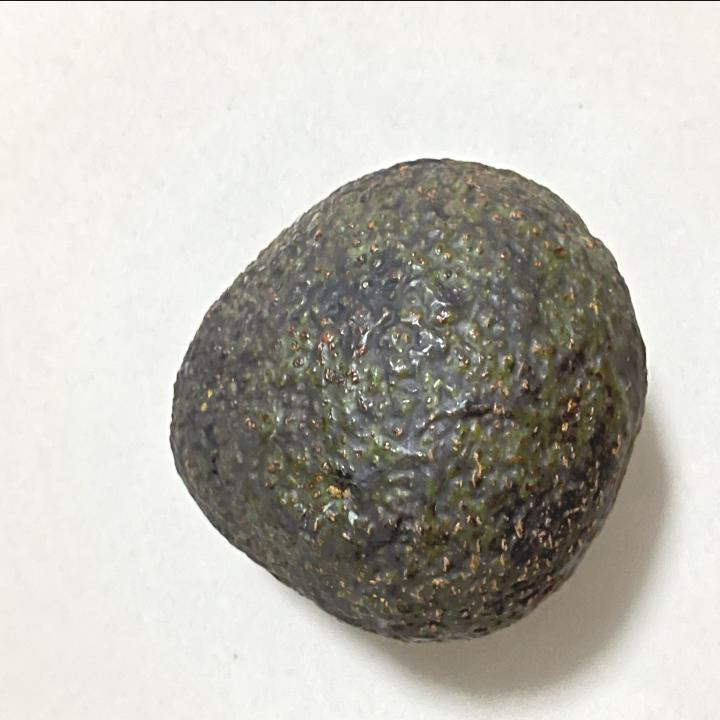Level1: (154, 126, 658, 660)
